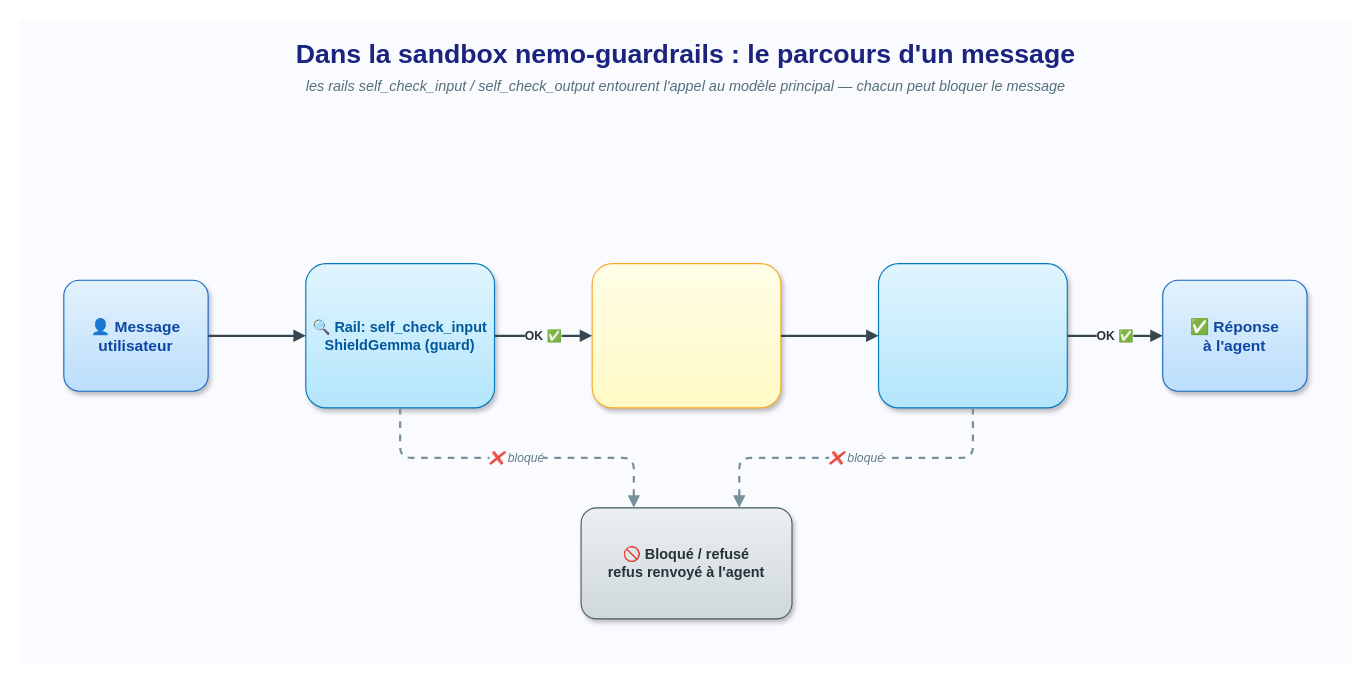
Image size: 1370x682. Some labels were removed from this diagram. The centre of each missing label's shape, as x and y in pixels:
"📦 llmman modèle principal génère la réponse" belongs at [687,337].
"🔍 Rail: self_check_output ShieldGemma (guard) vérifié par 400 tokens" belongs at [973,337].
